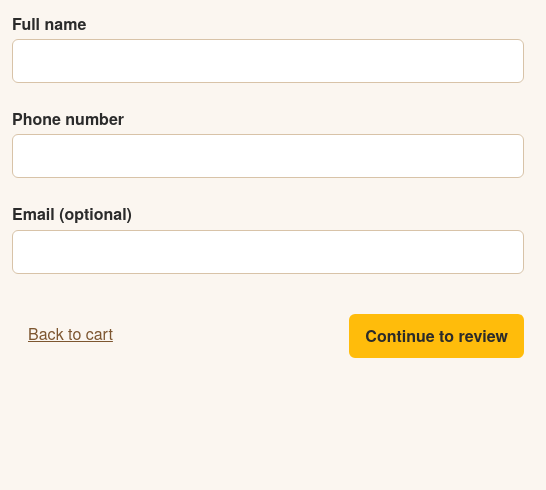
Test case: CheckoutFlow — non-empty cart (AC1) › advances to the review step, showing details and the backend's order summary together (AC11)
Type "Ada Lovelace" into the field labelled "Full name" at (268, 61), box [12,39,524,83]
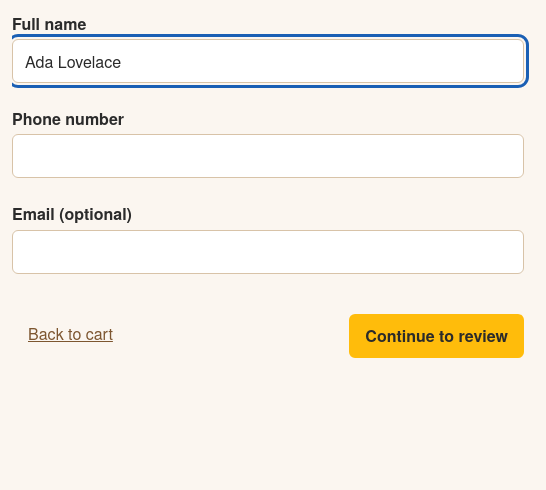
Type "5551234567" into the field labelled "Phone number" at (268, 156), box [12,134,524,178]
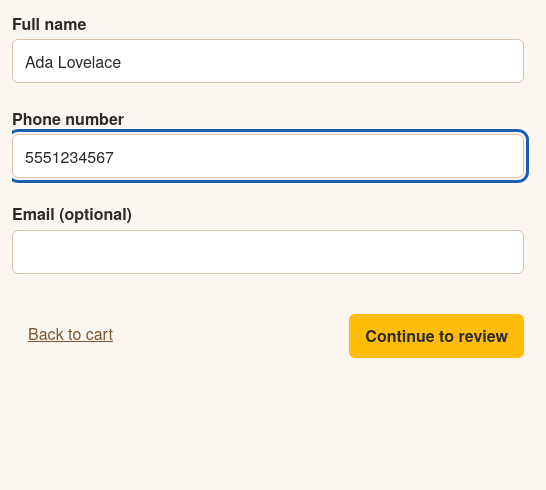
Click the button "Continue to review" at (437, 336), box [349,314,524,358]
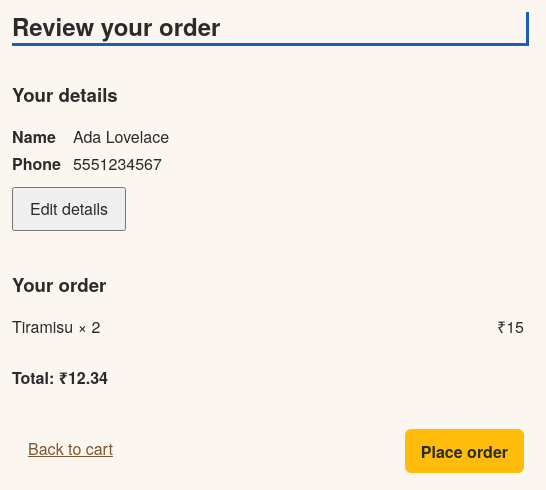
Now the label labelled "Full name" is gone
Now the text "Ada Lovelace" is shown, box [73,125,169,148]
Now the text "Tiramisu × 2" is shown, box [12,315,100,338]
